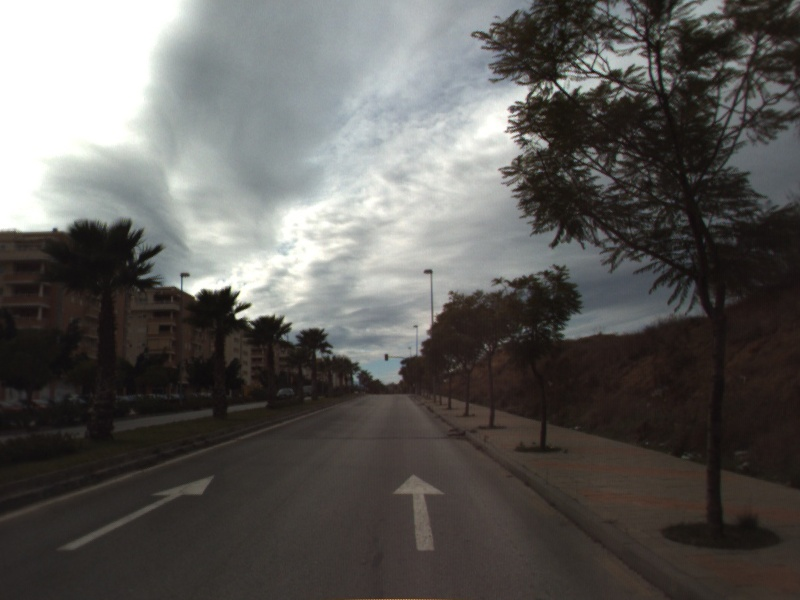STRAIGHT: (53, 473, 217, 553), (390, 472, 447, 553)
